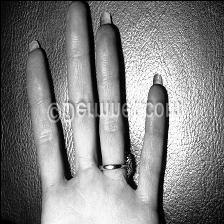Unclassified: (146, 126, 164, 158)
